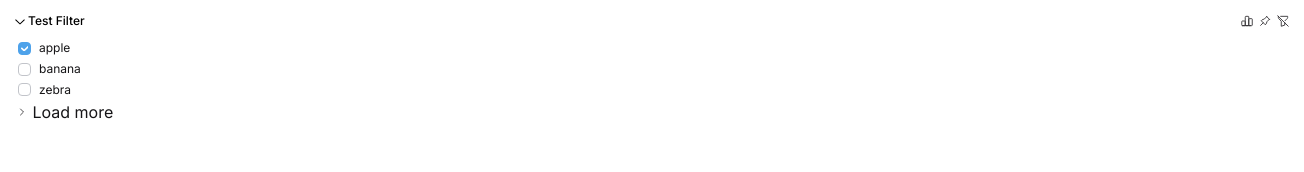
Scenario: FilterGroup › should show 100% for the only value the field filter allows, and nothing for the rest
The width and height of the screenshot is (1304, 172).
Click the checkbox with test id "toggle-distribution-button-Test Filter" at (1247, 21), box [1238,12,1256,30]
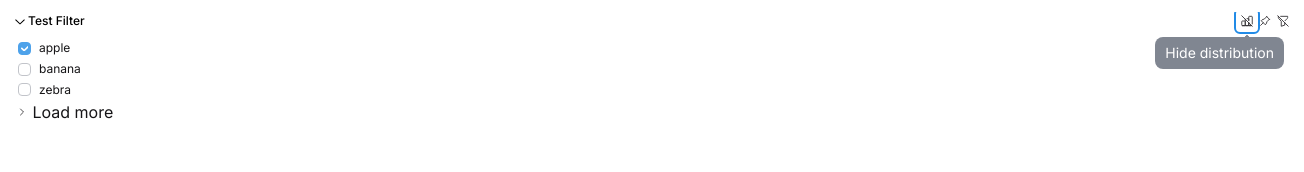
Result: the text "100%" is shown once at [1237,40,1269,57]
Result: the text "100%" is shown at [1237,40,1269,57]
